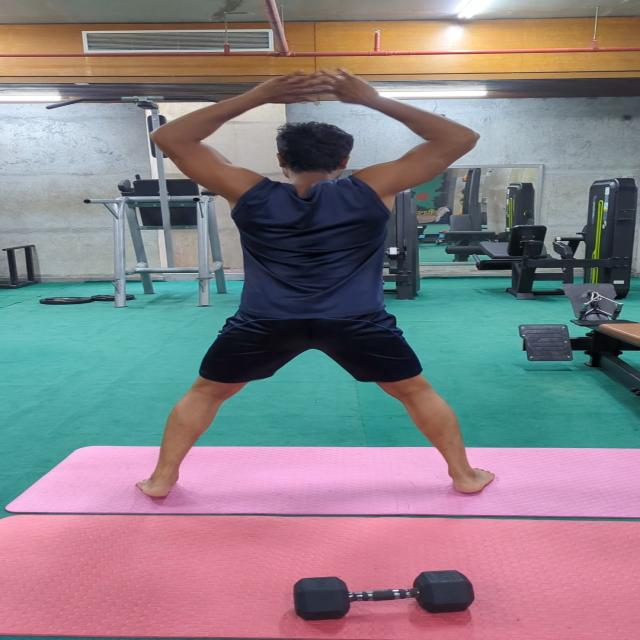Normal_JumpingJacks: (107, 60, 535, 508)
